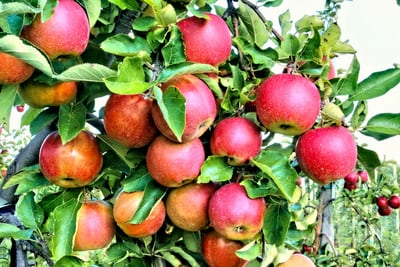apple: (149, 71, 222, 143), (255, 70, 324, 136), (16, 1, 93, 59), (37, 127, 106, 189), (294, 122, 360, 186), (141, 127, 205, 188), (207, 179, 267, 242), (102, 90, 158, 148), (175, 12, 232, 68), (14, 64, 82, 110), (208, 112, 263, 168), (164, 178, 220, 233), (111, 186, 166, 239), (61, 197, 114, 252), (198, 231, 252, 267)
